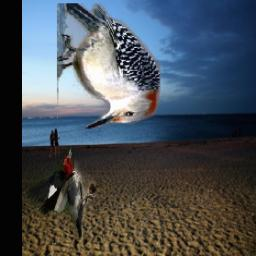Woodpecker: (58, 4, 161, 130), (26, 148, 95, 239)
